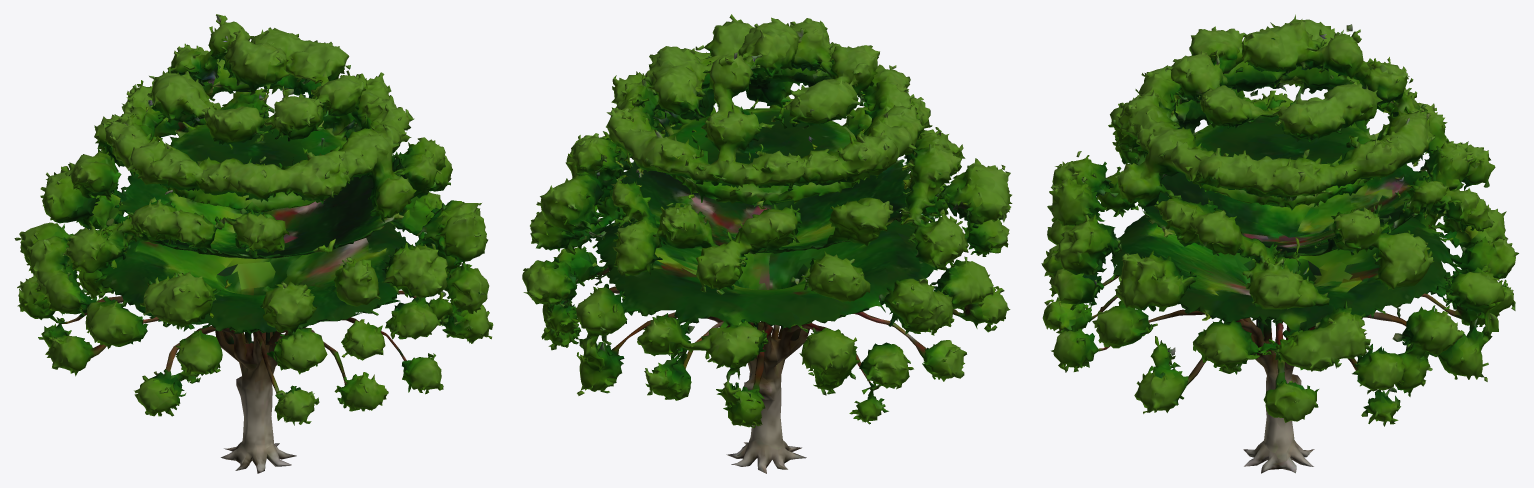
File: arbol.fbx
3 renders of one model, left to right at view 1: azimuth 30°, elevation 25°; view 2: azimuth 150°, elevation 25°; view 3: azimuth 270°, elevation 25°, orthographic. The views are drawn at different scales.
Visible parts, largest first — view 1: tripo_node_77b359c7; view 2: tripo_node_77b359c7; view 3: tripo_node_77b359c7.
Part boxes in pixels (x1,y1,x2,y2): tripo_node_77b359c7: (14, 14, 493, 473); tripo_node_77b359c7: (522, 14, 1012, 473); tripo_node_77b359c7: (1041, 14, 1518, 473).
Size of the model in its own units: 0.9877 by 0.9998 by 0.9873.
1 material, 1 textured.
